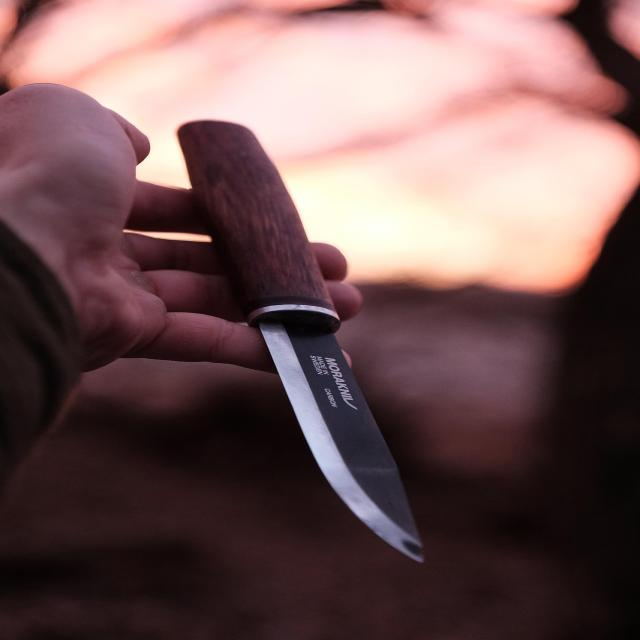Knife: (179, 121, 421, 560)
